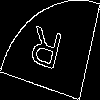R: (25, 25, 64, 80)
